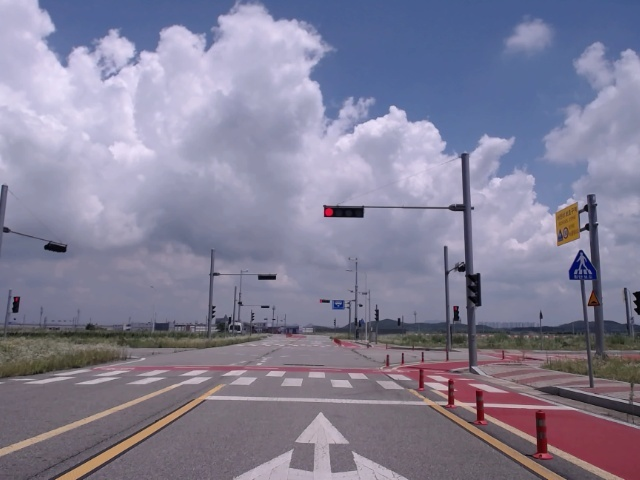red_4: (324, 206, 364, 218)
